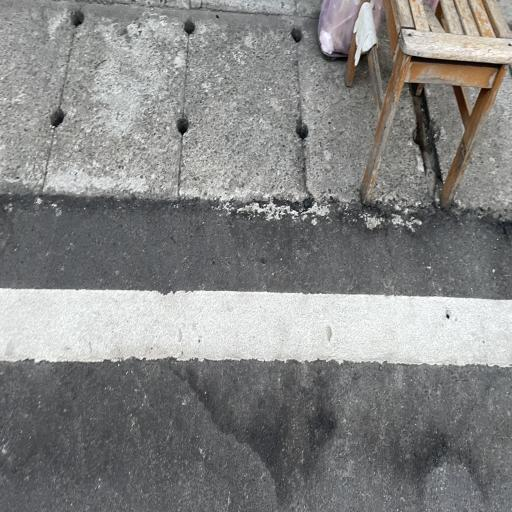car: (0, 268, 511, 370)
